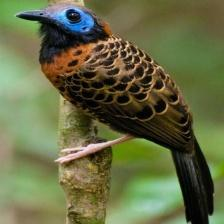bird: (16, 0, 212, 223)
